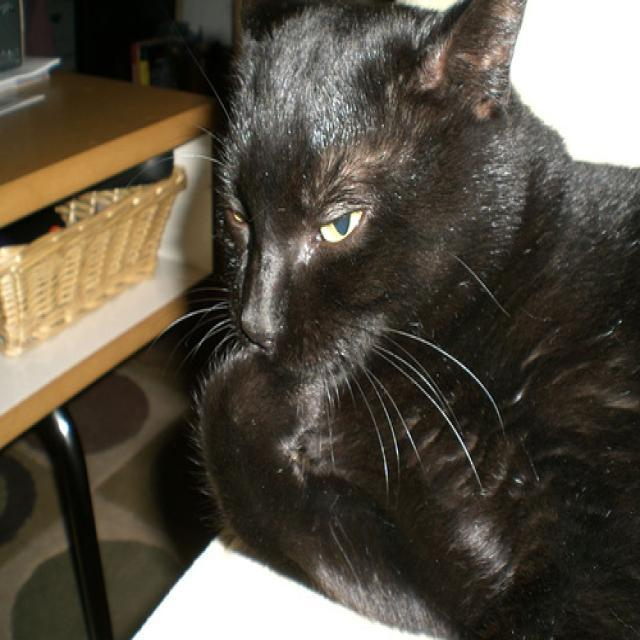Bombay: (202, 2, 534, 404)
